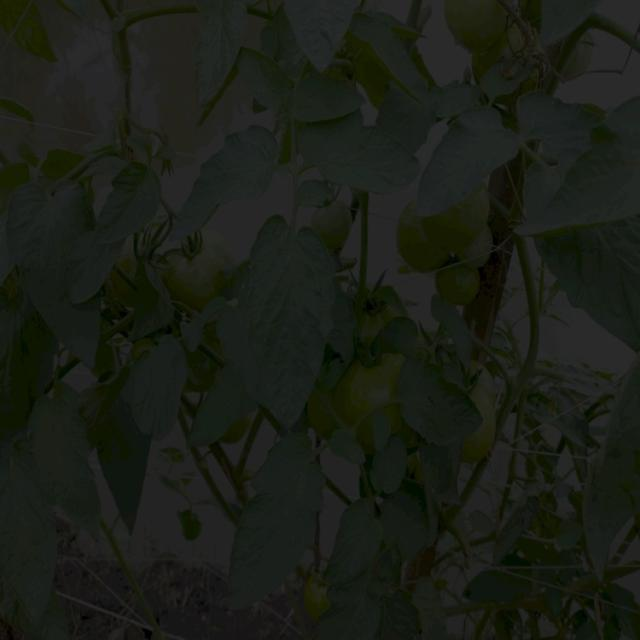tomato: (169, 236, 229, 305), (428, 189, 495, 250), (446, 1, 519, 52), (348, 353, 403, 420), (435, 257, 482, 307), (401, 205, 439, 264), (310, 387, 347, 433), (477, 380, 500, 452), (303, 573, 336, 619), (355, 293, 385, 338)
